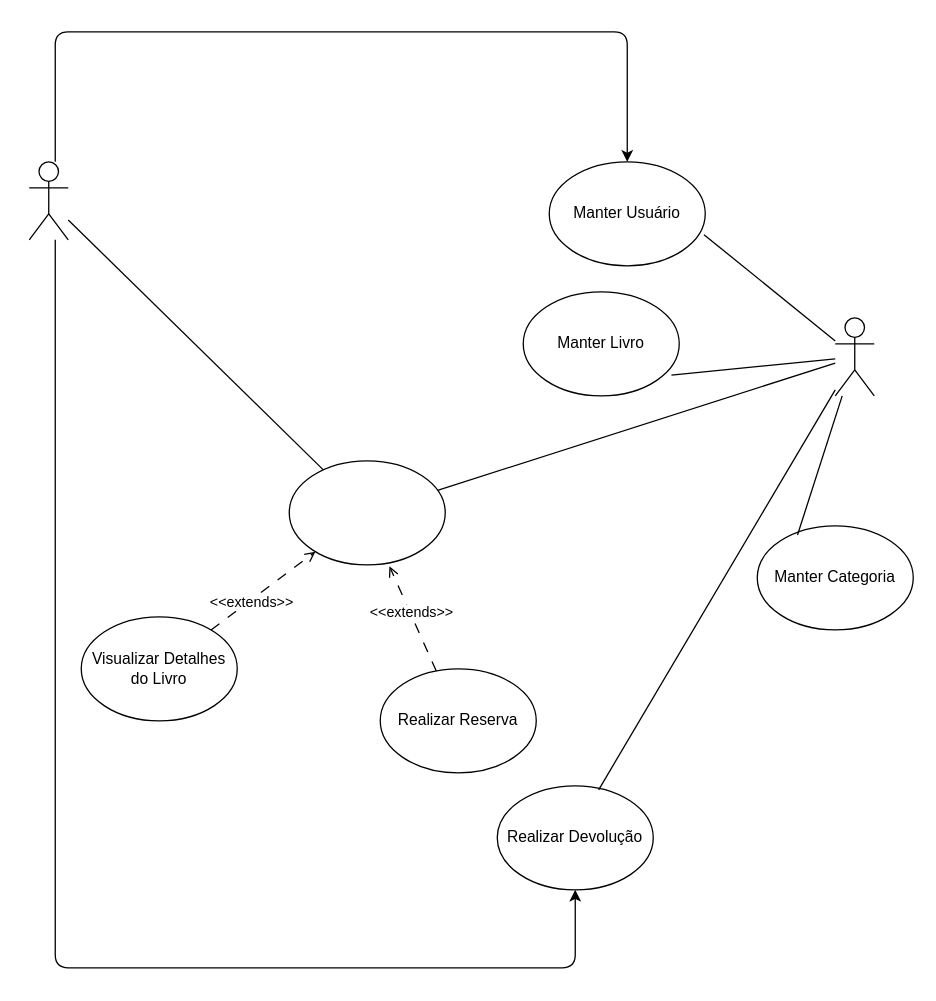
This 936x1001 diagram has some shape labels left out. The centre of each missing label's shape, as x and y in pixels:
"Consultar Livros" belongs at point 366,512.
"Funcionário" belongs at point 854,356.
"Usuário" belongs at point 48,200.
